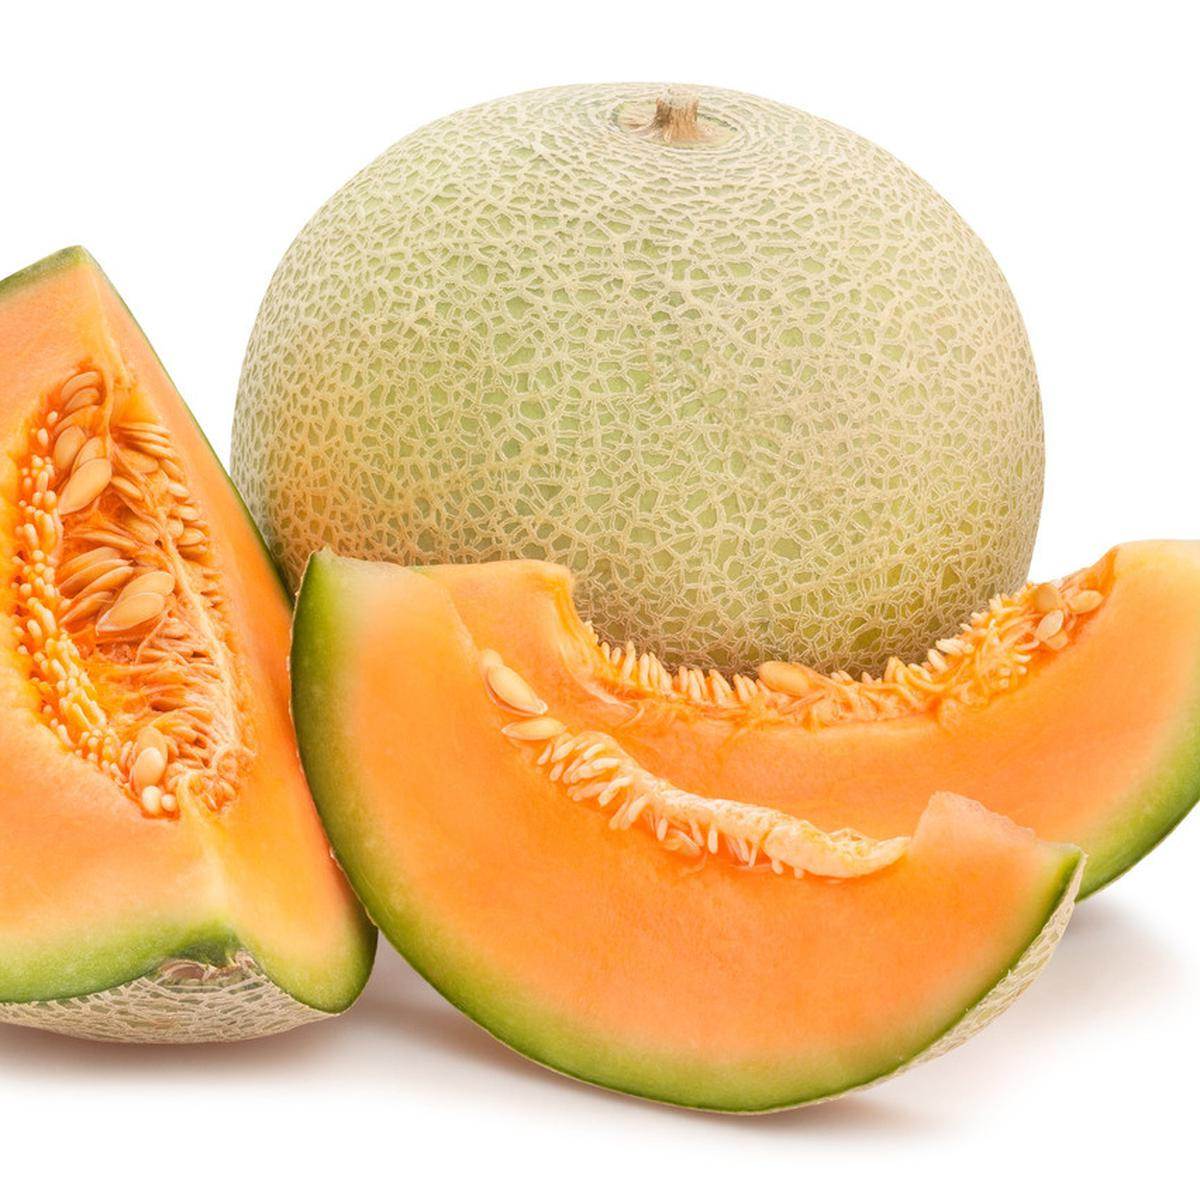Melon: (271, 571, 1015, 1096), (4, 185, 381, 1144)
